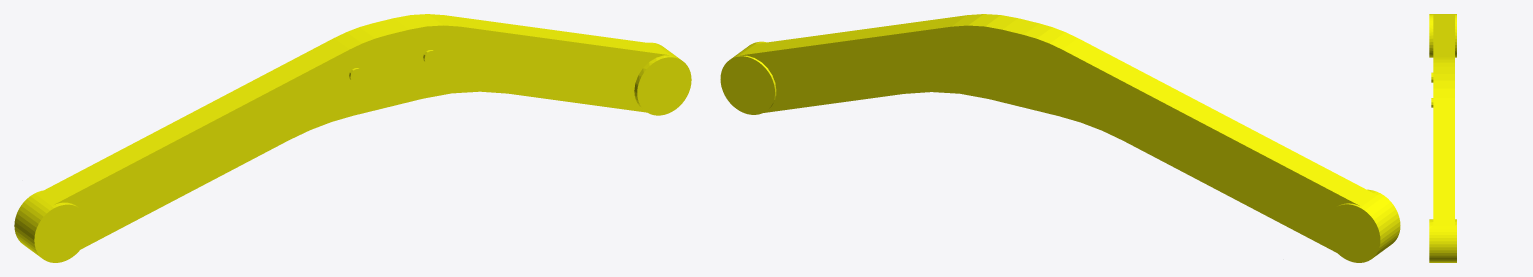
3 views of the same model, side by side, from view 1: azimuth 30°, elevation 25°; view 2: azimuth 150°, elevation 25°; view 3: azimuth 270°, elevation 25° (orthographic). The views are drawn at different scales.
Visible parts, largest first — view 1: node; view 2: node; view 3: node.
Part boxes in pixels (x1,y1,x2,y2): node: (14, 14, 691, 262); node: (720, 14, 1400, 262); node: (1429, 14, 1456, 262).
Bounding box in the file's own units: 1330 × 280 × 225.
